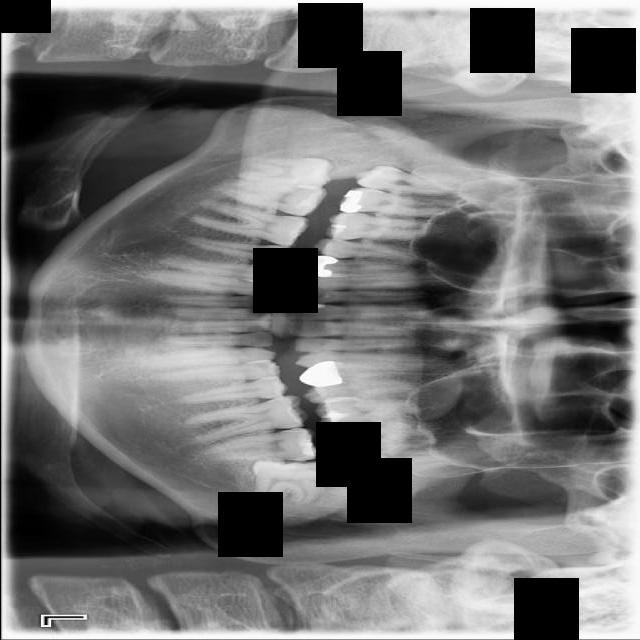3M ESPE Implant: (351, 162, 463, 201)
52: (314, 392, 366, 433), (273, 423, 320, 466), (277, 184, 328, 217), (323, 210, 376, 241), (294, 360, 346, 388), (333, 425, 378, 453), (303, 254, 347, 280), (339, 189, 385, 213), (291, 304, 329, 321)
73: (76, 595, 86, 598)
BioHorizons Implant: (329, 421, 441, 456)
BioLife Implant: (344, 435, 447, 482)
Biomet 3i Implant: (248, 456, 325, 507)
Blue Sky Bio Implant: (199, 427, 319, 467)
Caries: (334, 187, 457, 221)
Implant: (216, 178, 329, 219)
Keystone Dental Implant: (236, 153, 333, 190)
